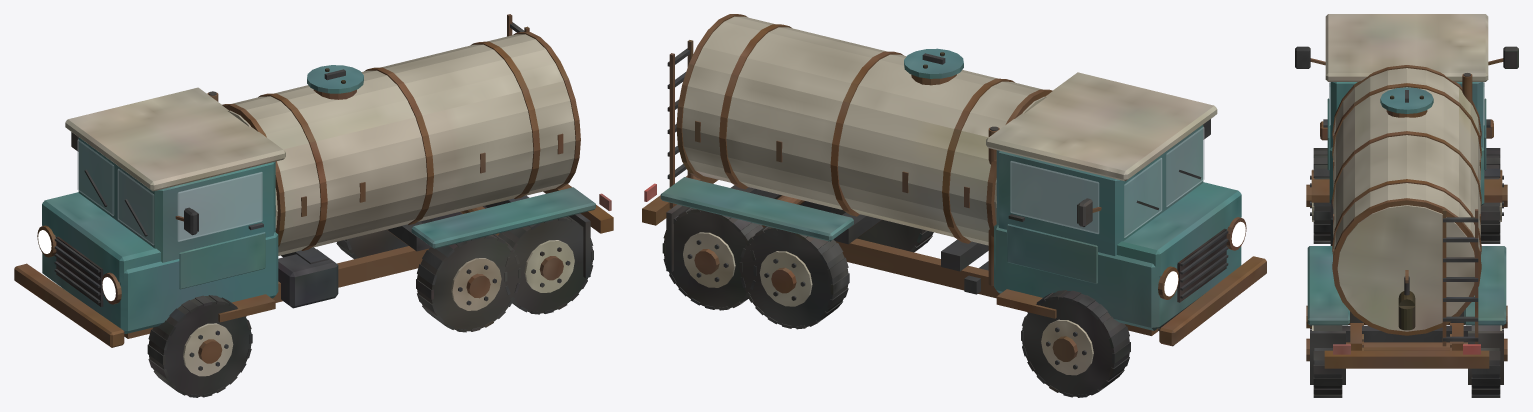
The model's file is CV15_water_tanker.glb.
The picture shows the model from 3 angles, left to right: view 1: azimuth 30°, elevation 25°; view 2: azimuth 150°, elevation 25°; view 3: azimuth 270°, elevation 25°; orthographic projection. The views are drawn at different scales.
Visible parts, largest first — view 1: Chassis rail; view 2: Chassis rail; view 3: Chassis rail.
Part boxes in pixels (left/top/right/bottom): Chassis rail: left=14, top=14, right=613, bottom=397; Chassis rail: left=642, top=14, right=1266, bottom=397; Chassis rail: left=1295, top=14, right=1518, bottom=397.
Bounding box in the file's own units: 7 × 3.18 × 2.87.
10 materials, 8 textured.
